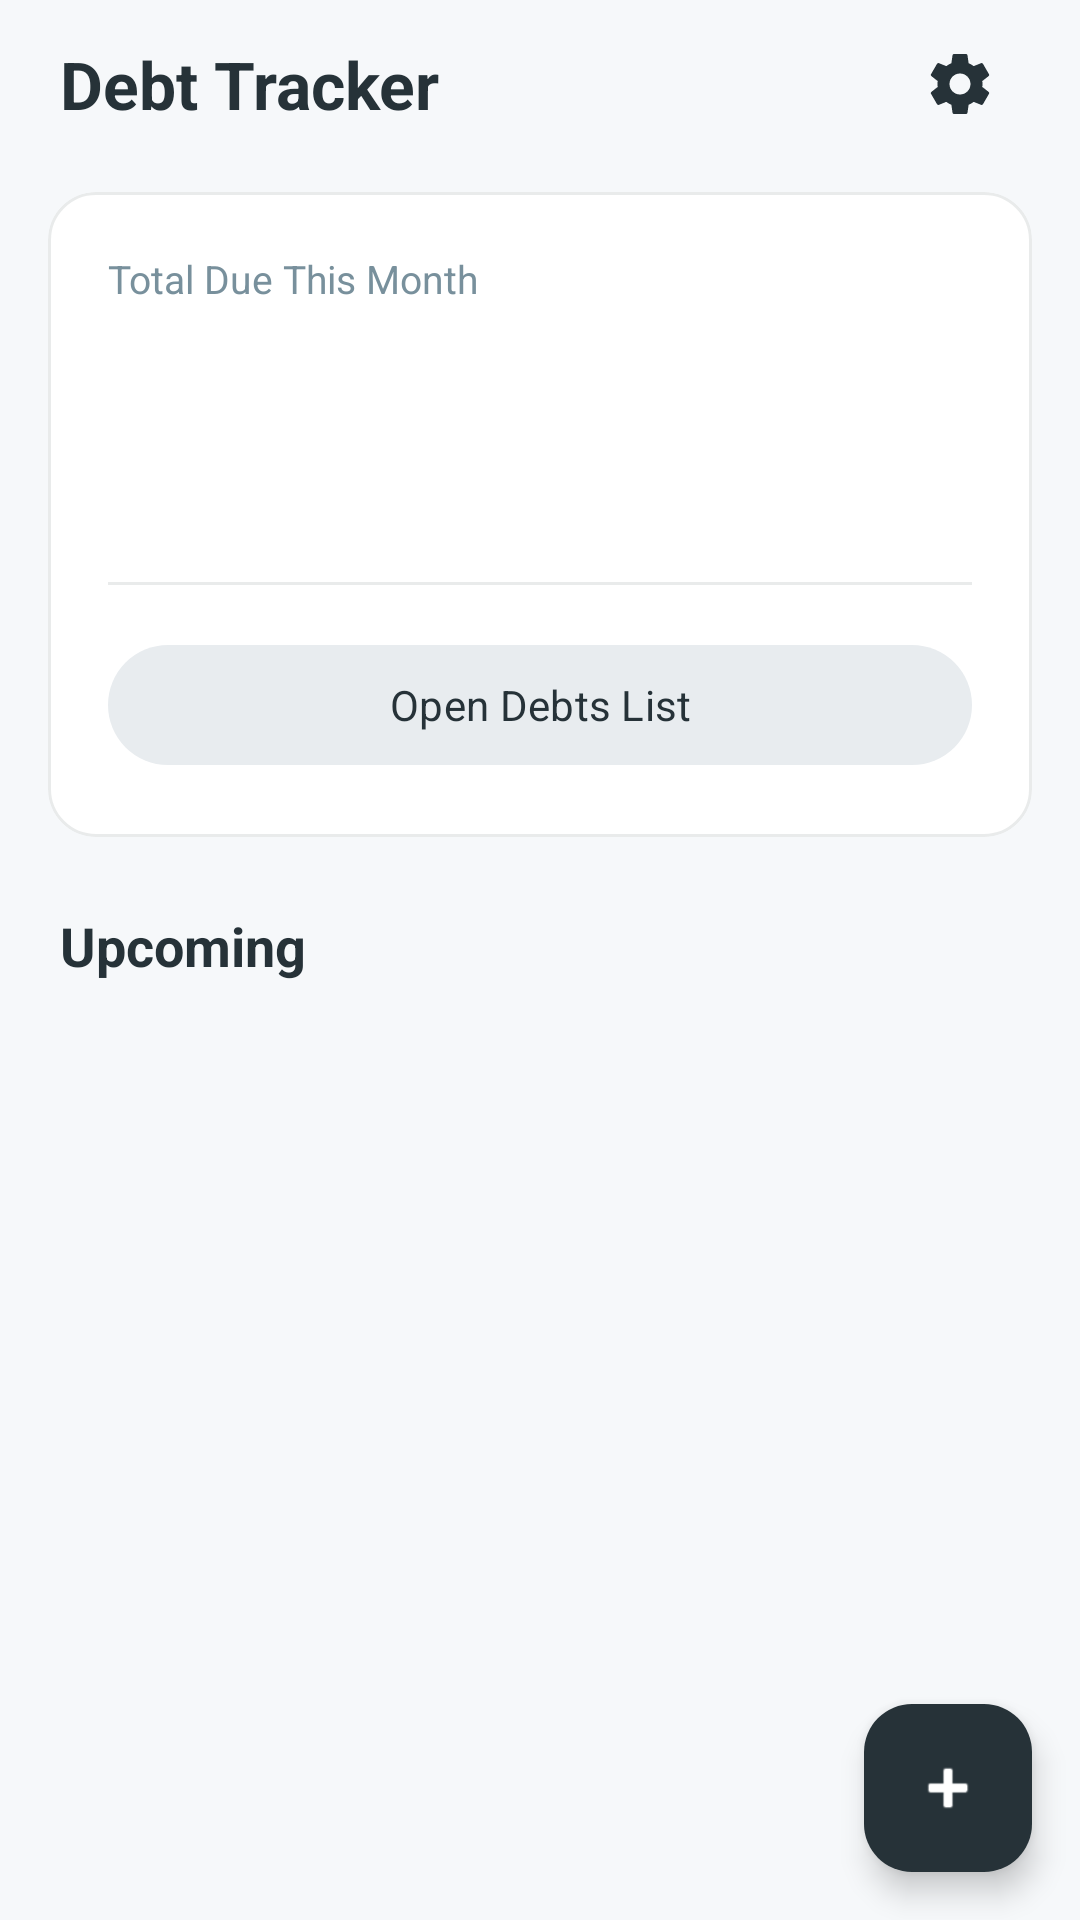

Locate icon controls on the screen. Image size 1080 × 1920, boxes as box(x1, y1, x2, y2).
Add Debt: box(864, 1704, 1032, 1872)
Settings: box(930, 54, 989, 114)
